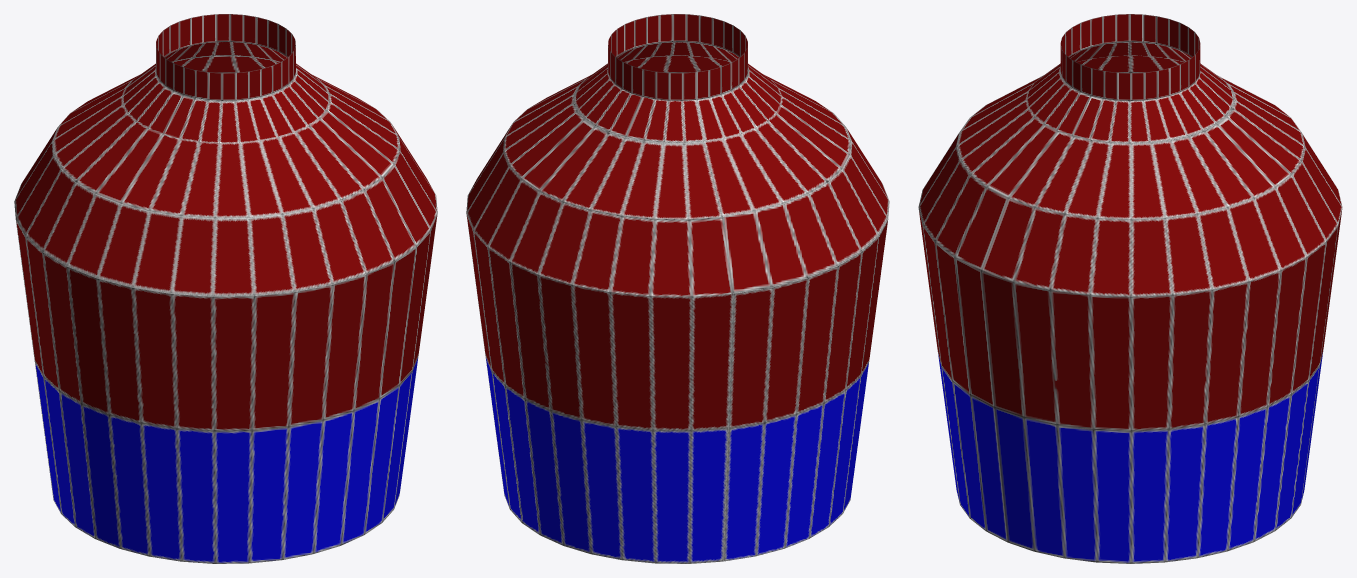
The model's file is pitcher_one.obj.
The picture shows the model from 3 angles, left to right: view 1: azimuth 30°, elevation 25°; view 2: azimuth 150°, elevation 25°; view 3: azimuth 270°, elevation 25°; orthographic projection.
Parts seen in each view (by area): view 1: Circle; view 2: Circle; view 3: Circle.
Part boxes in pixels (<box>): Circle: <box>14,14,437,563</box>; Circle: <box>466,14,889,563</box>; Circle: <box>918,14,1342,563</box>.
Bounding box in the file's own units: 1.83 × 2.13 × 1.83.
Materials: 1 (1 with a texture image).
